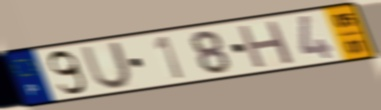1: (153, 34, 187, 81)
4: (298, 14, 335, 62)
8: (189, 29, 232, 76)
9: (46, 49, 89, 96)
H: (235, 18, 297, 71)
U: (79, 40, 135, 91)
